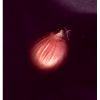onion: (28, 25, 68, 69)
